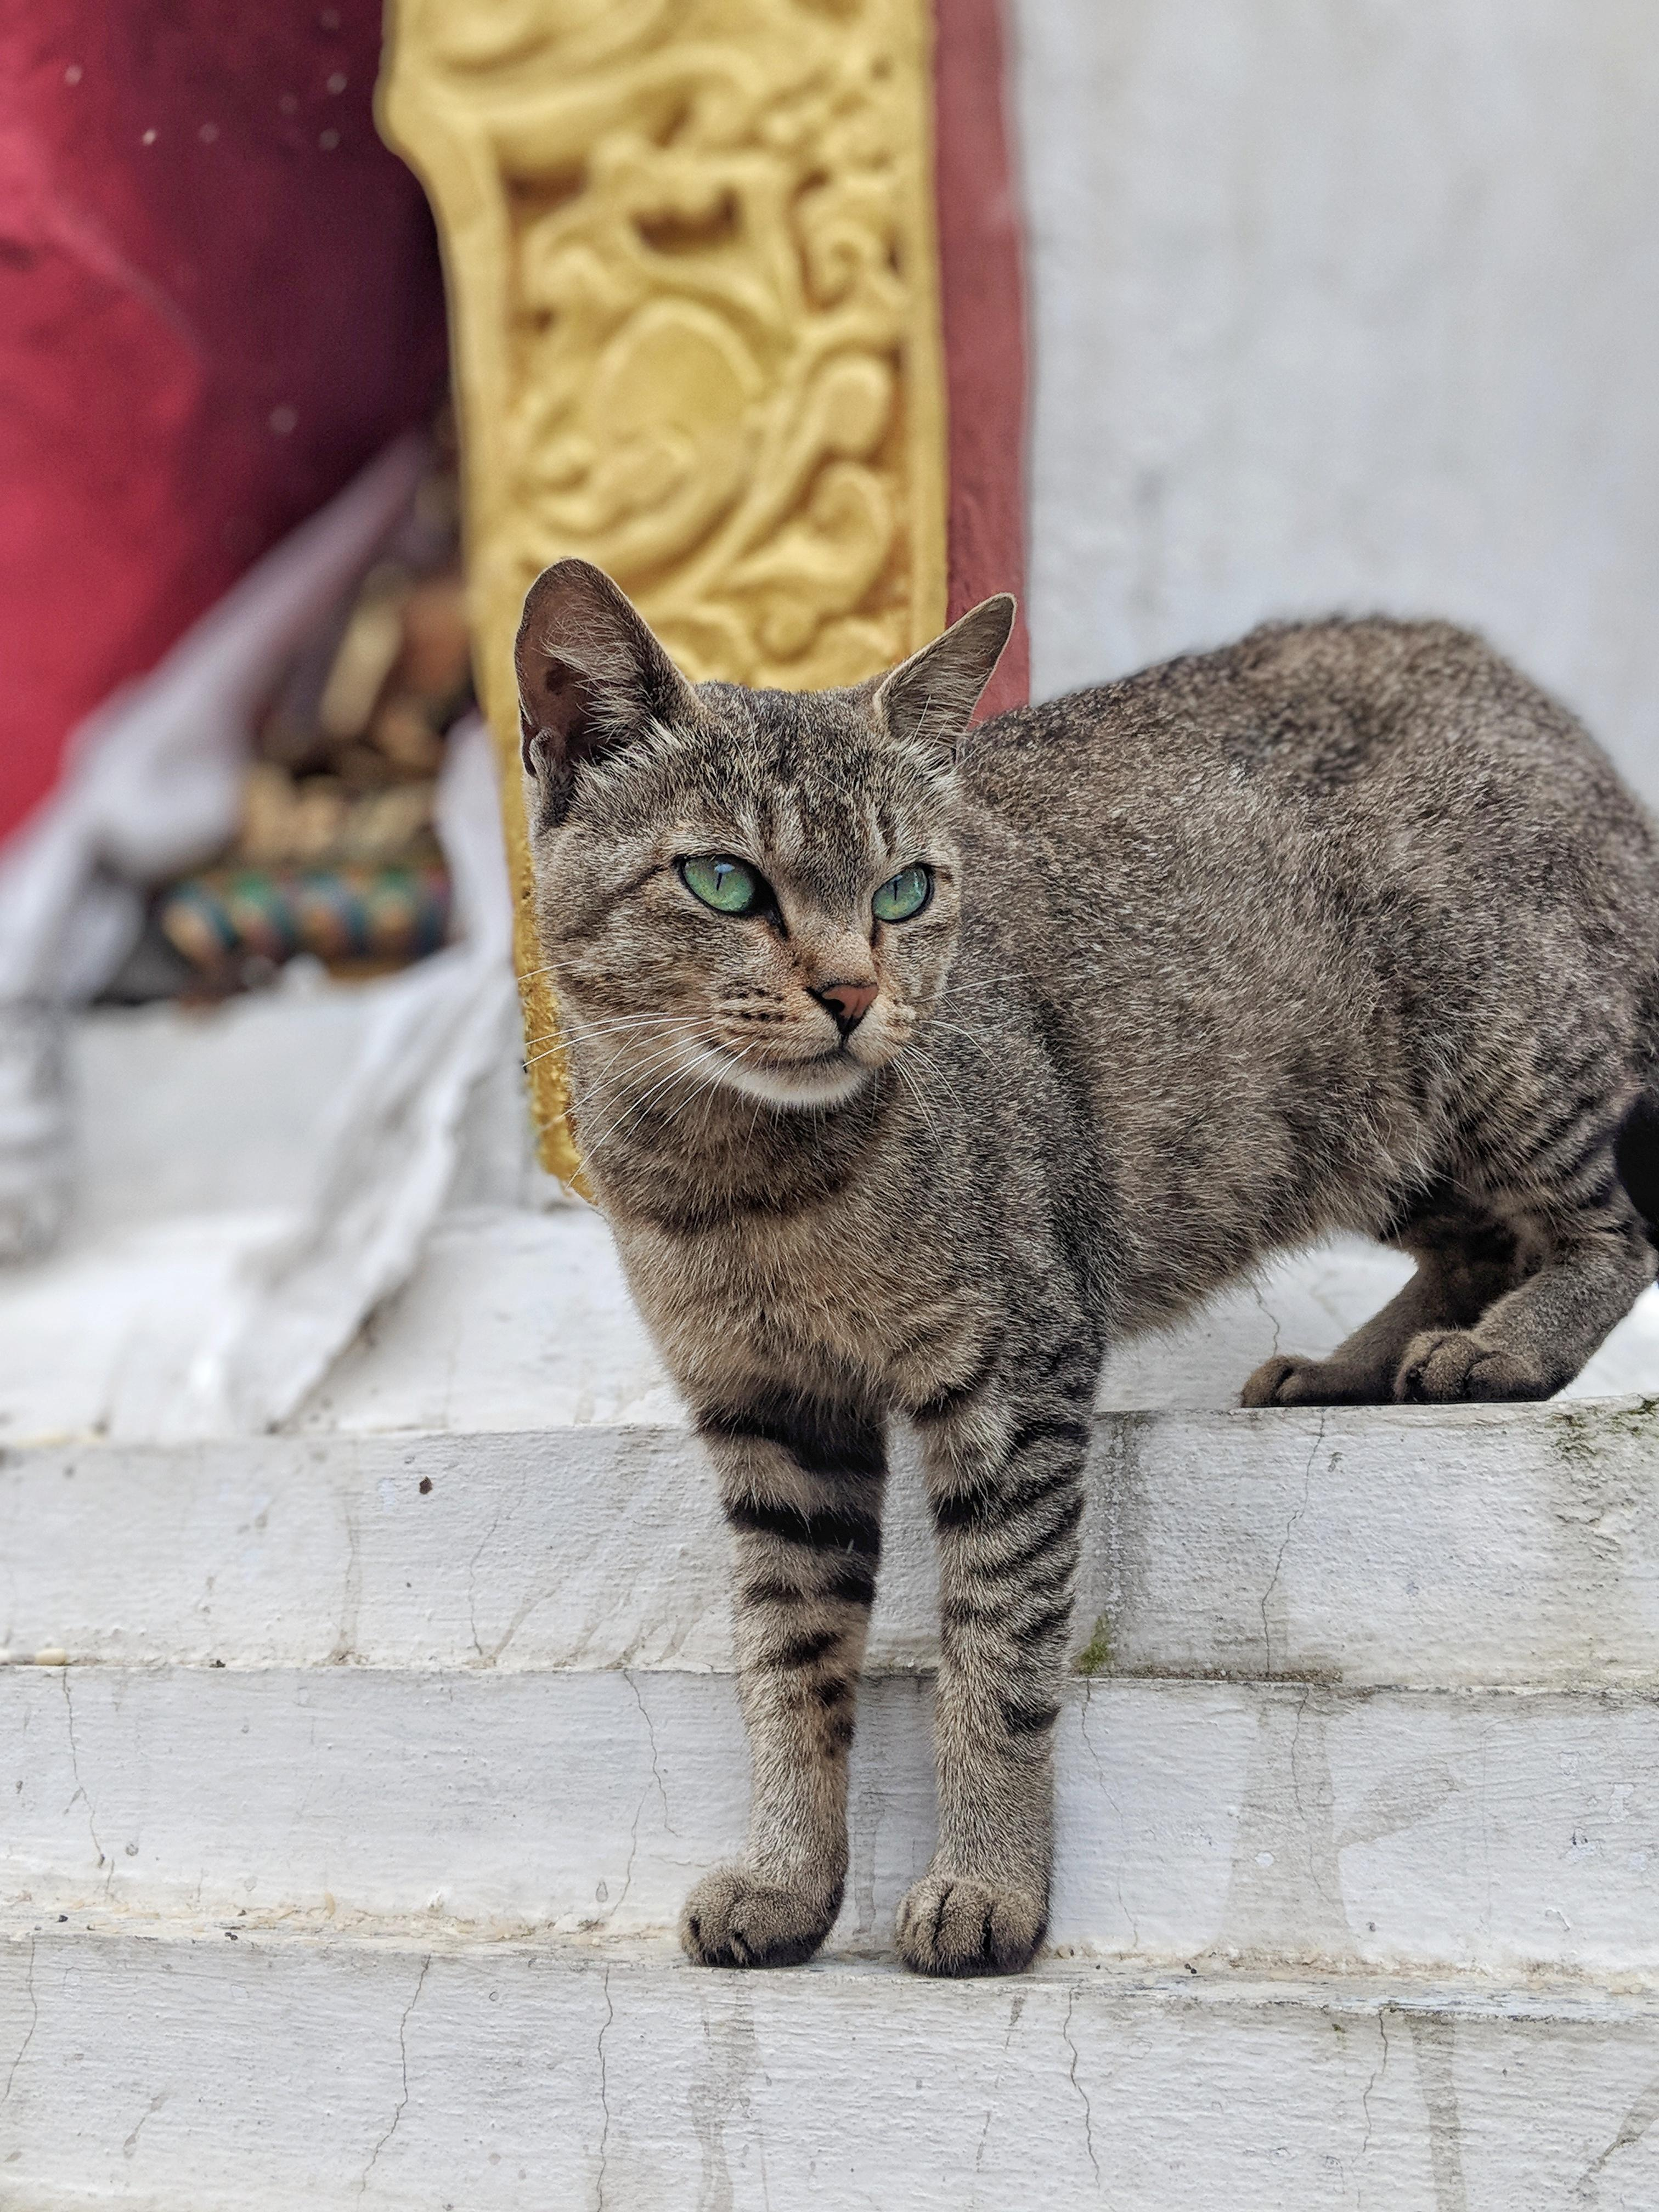cat: (352, 516, 1659, 2001)
